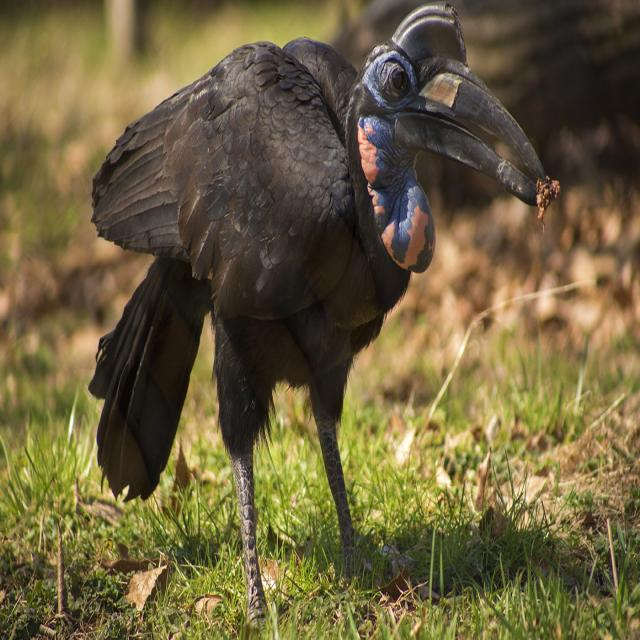Hornbill: (97, 10, 547, 627)
